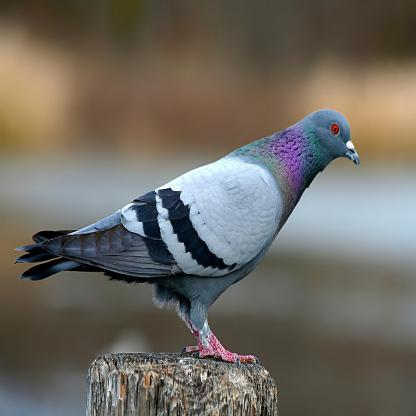Rock Pigeon: (15, 106, 369, 318)
